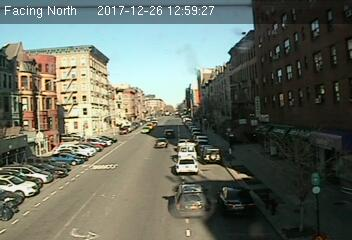car: (215, 184, 256, 216), (172, 185, 211, 217), (174, 156, 199, 175), (202, 147, 222, 164), (154, 137, 168, 148), (164, 129, 175, 137)
truck: (176, 142, 197, 160)
